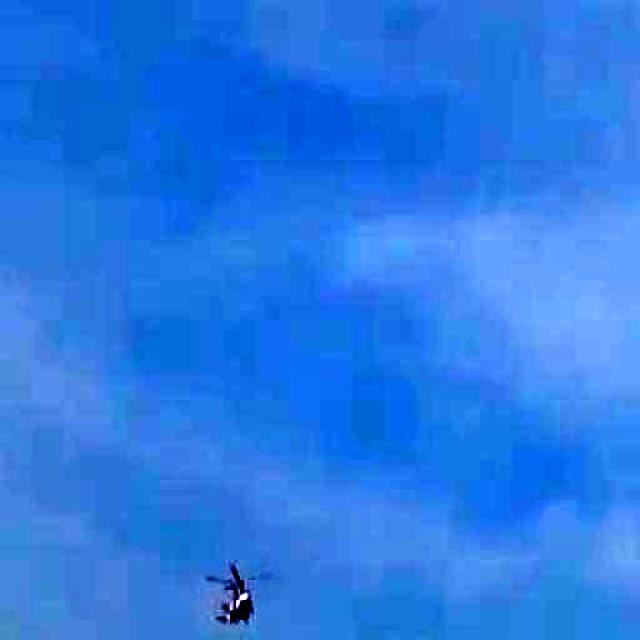drone: (194, 554, 280, 630)
